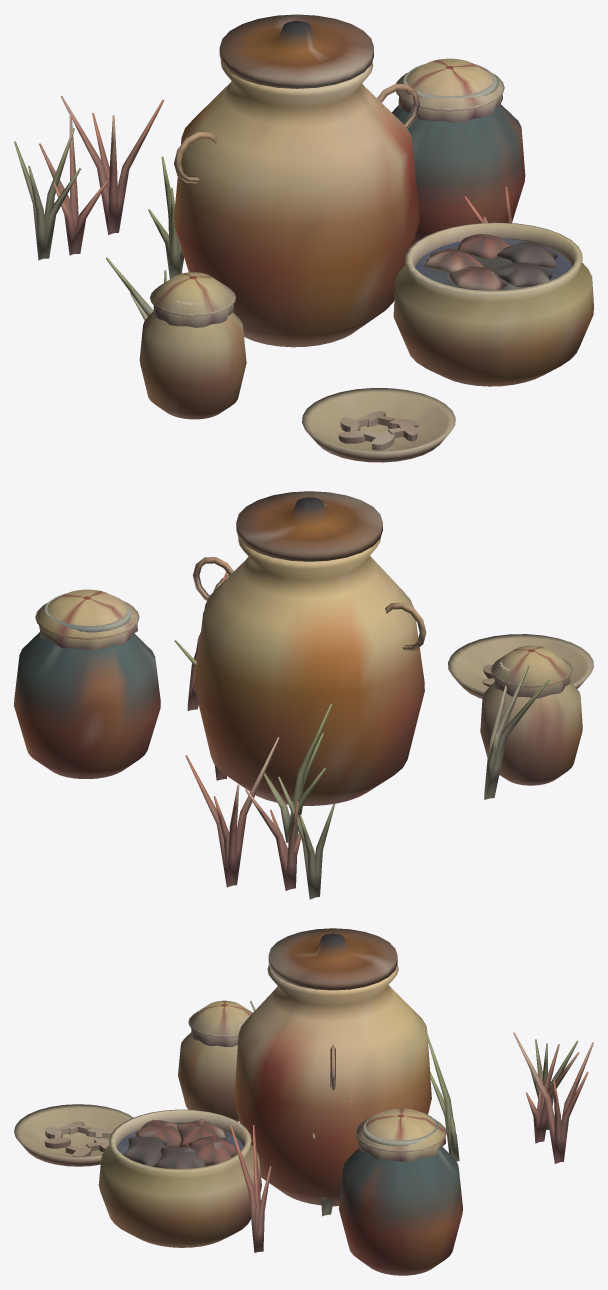
File: kamp_kupler.glb
The picture shows the model from 3 angles, top to bottom: view 1: azimuth 30°, elevation 25°; view 2: azimuth 150°, elevation 25°; view 3: azimuth 270°, elevation 25°; orthographic projection. The views are drawn at different scales.
Parts seen in each view (by area): view 1: kamp_kupler_LOD0; view 2: kamp_kupler_LOD0; view 3: kamp_kupler_LOD0.
Boxes of the visible parts, box(x1,y1,x2,y2) form: kamp_kupler_LOD0: box(14, 14, 593, 462); kamp_kupler_LOD0: box(14, 491, 593, 899); kamp_kupler_LOD0: box(14, 928, 593, 1275).
Size of what is drawn, in the model's own units: 1.37 by 0.8039 by 1.71.
